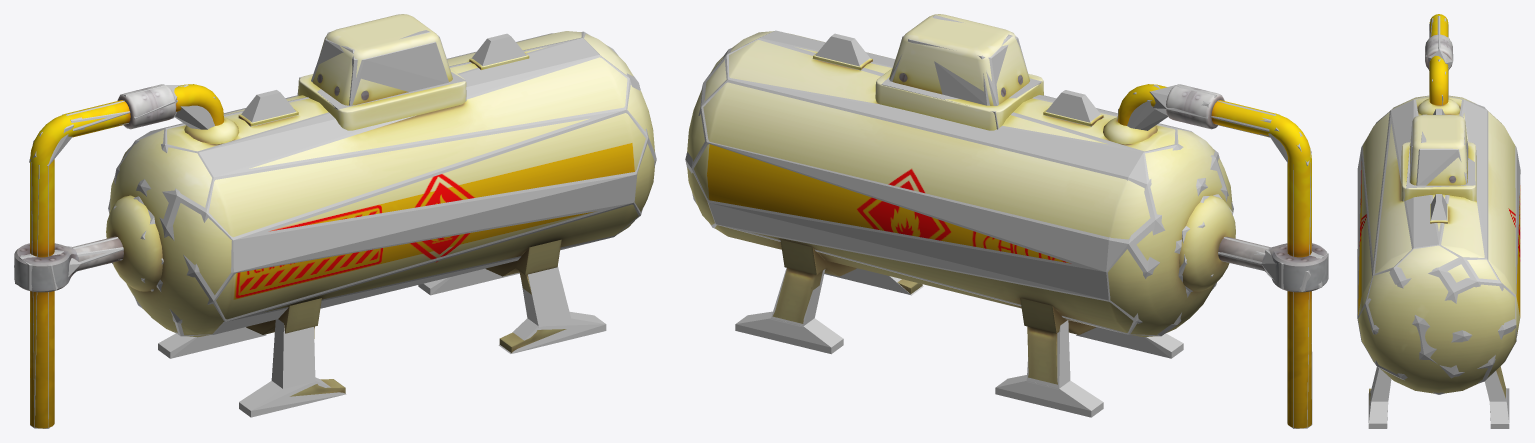
File: SM_GasTank01.fbx
The picture shows the model from 3 angles, left to right: view 1: azimuth 30°, elevation 25°; view 2: azimuth 150°, elevation 25°; view 3: azimuth 270°, elevation 25°; orthographic projection. The views are drawn at different scales.
Visible parts, largest first — view 1: SM_GasTank01, SM_GasTank01_ConvexHulls; view 2: SM_GasTank01, SM_GasTank01_ConvexHulls; view 3: SM_GasTank01, SM_GasTank01_ConvexHulls.
Part boxes in pixels (x1,y1,x2,y2): SM_GasTank01: [14, 14, 654, 428]; SM_GasTank01_ConvexHulls: [14, 30, 656, 428]; SM_GasTank01: [687, 14, 1327, 428]; SM_GasTank01_ConvexHulls: [685, 15, 1328, 428]; SM_GasTank01: [1358, 14, 1520, 404]; SM_GasTank01_ConvexHulls: [1357, 16, 1520, 428].
Size of the model in its own units: 575 by 174 by 276.
2 materials, 1 textured.
